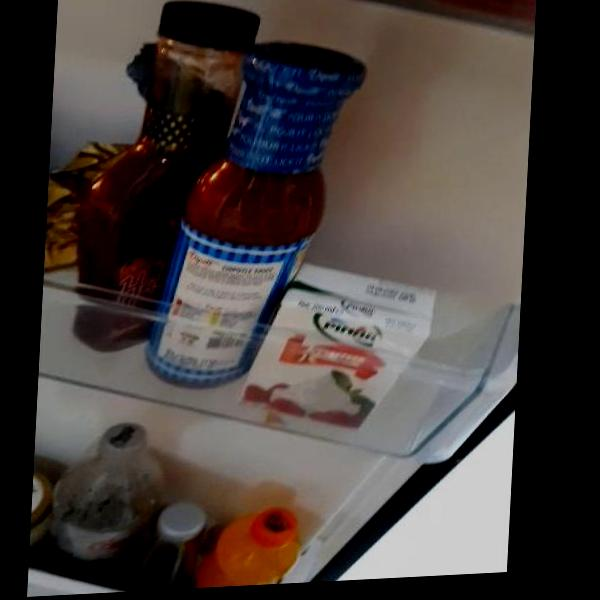cream: (252, 267, 426, 437)
sauce: (102, 42, 334, 381)
